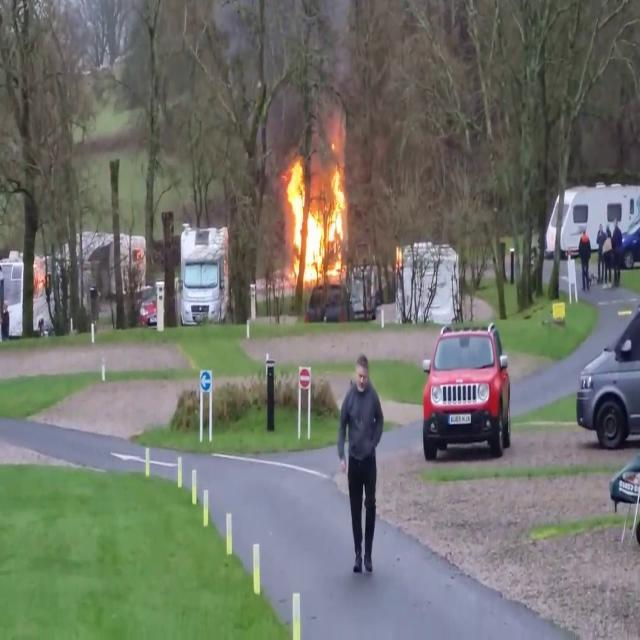Fire: (282, 148, 351, 284)
